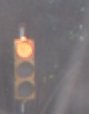Red: (11, 34, 37, 109)
